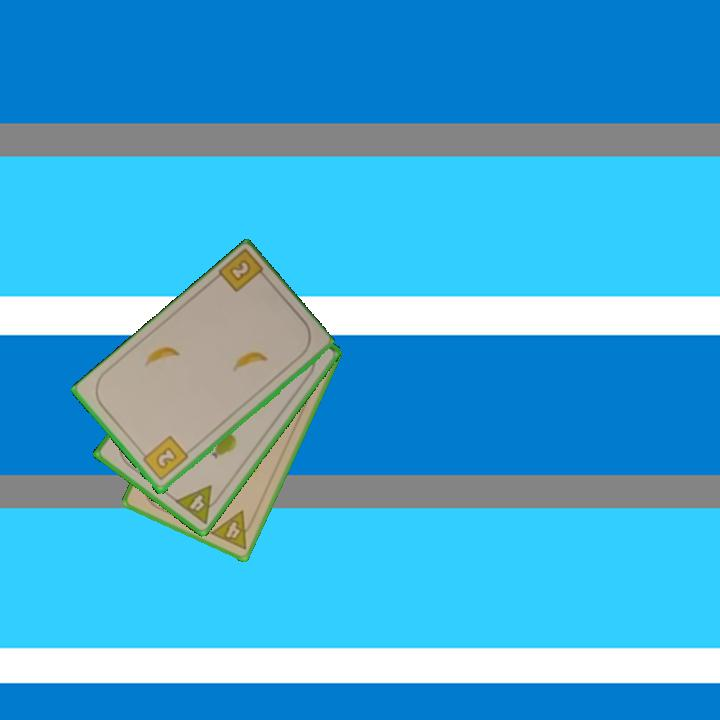2b: (214, 248, 272, 296), (137, 433, 191, 484)
4p: (171, 482, 225, 527), (207, 507, 259, 553)
